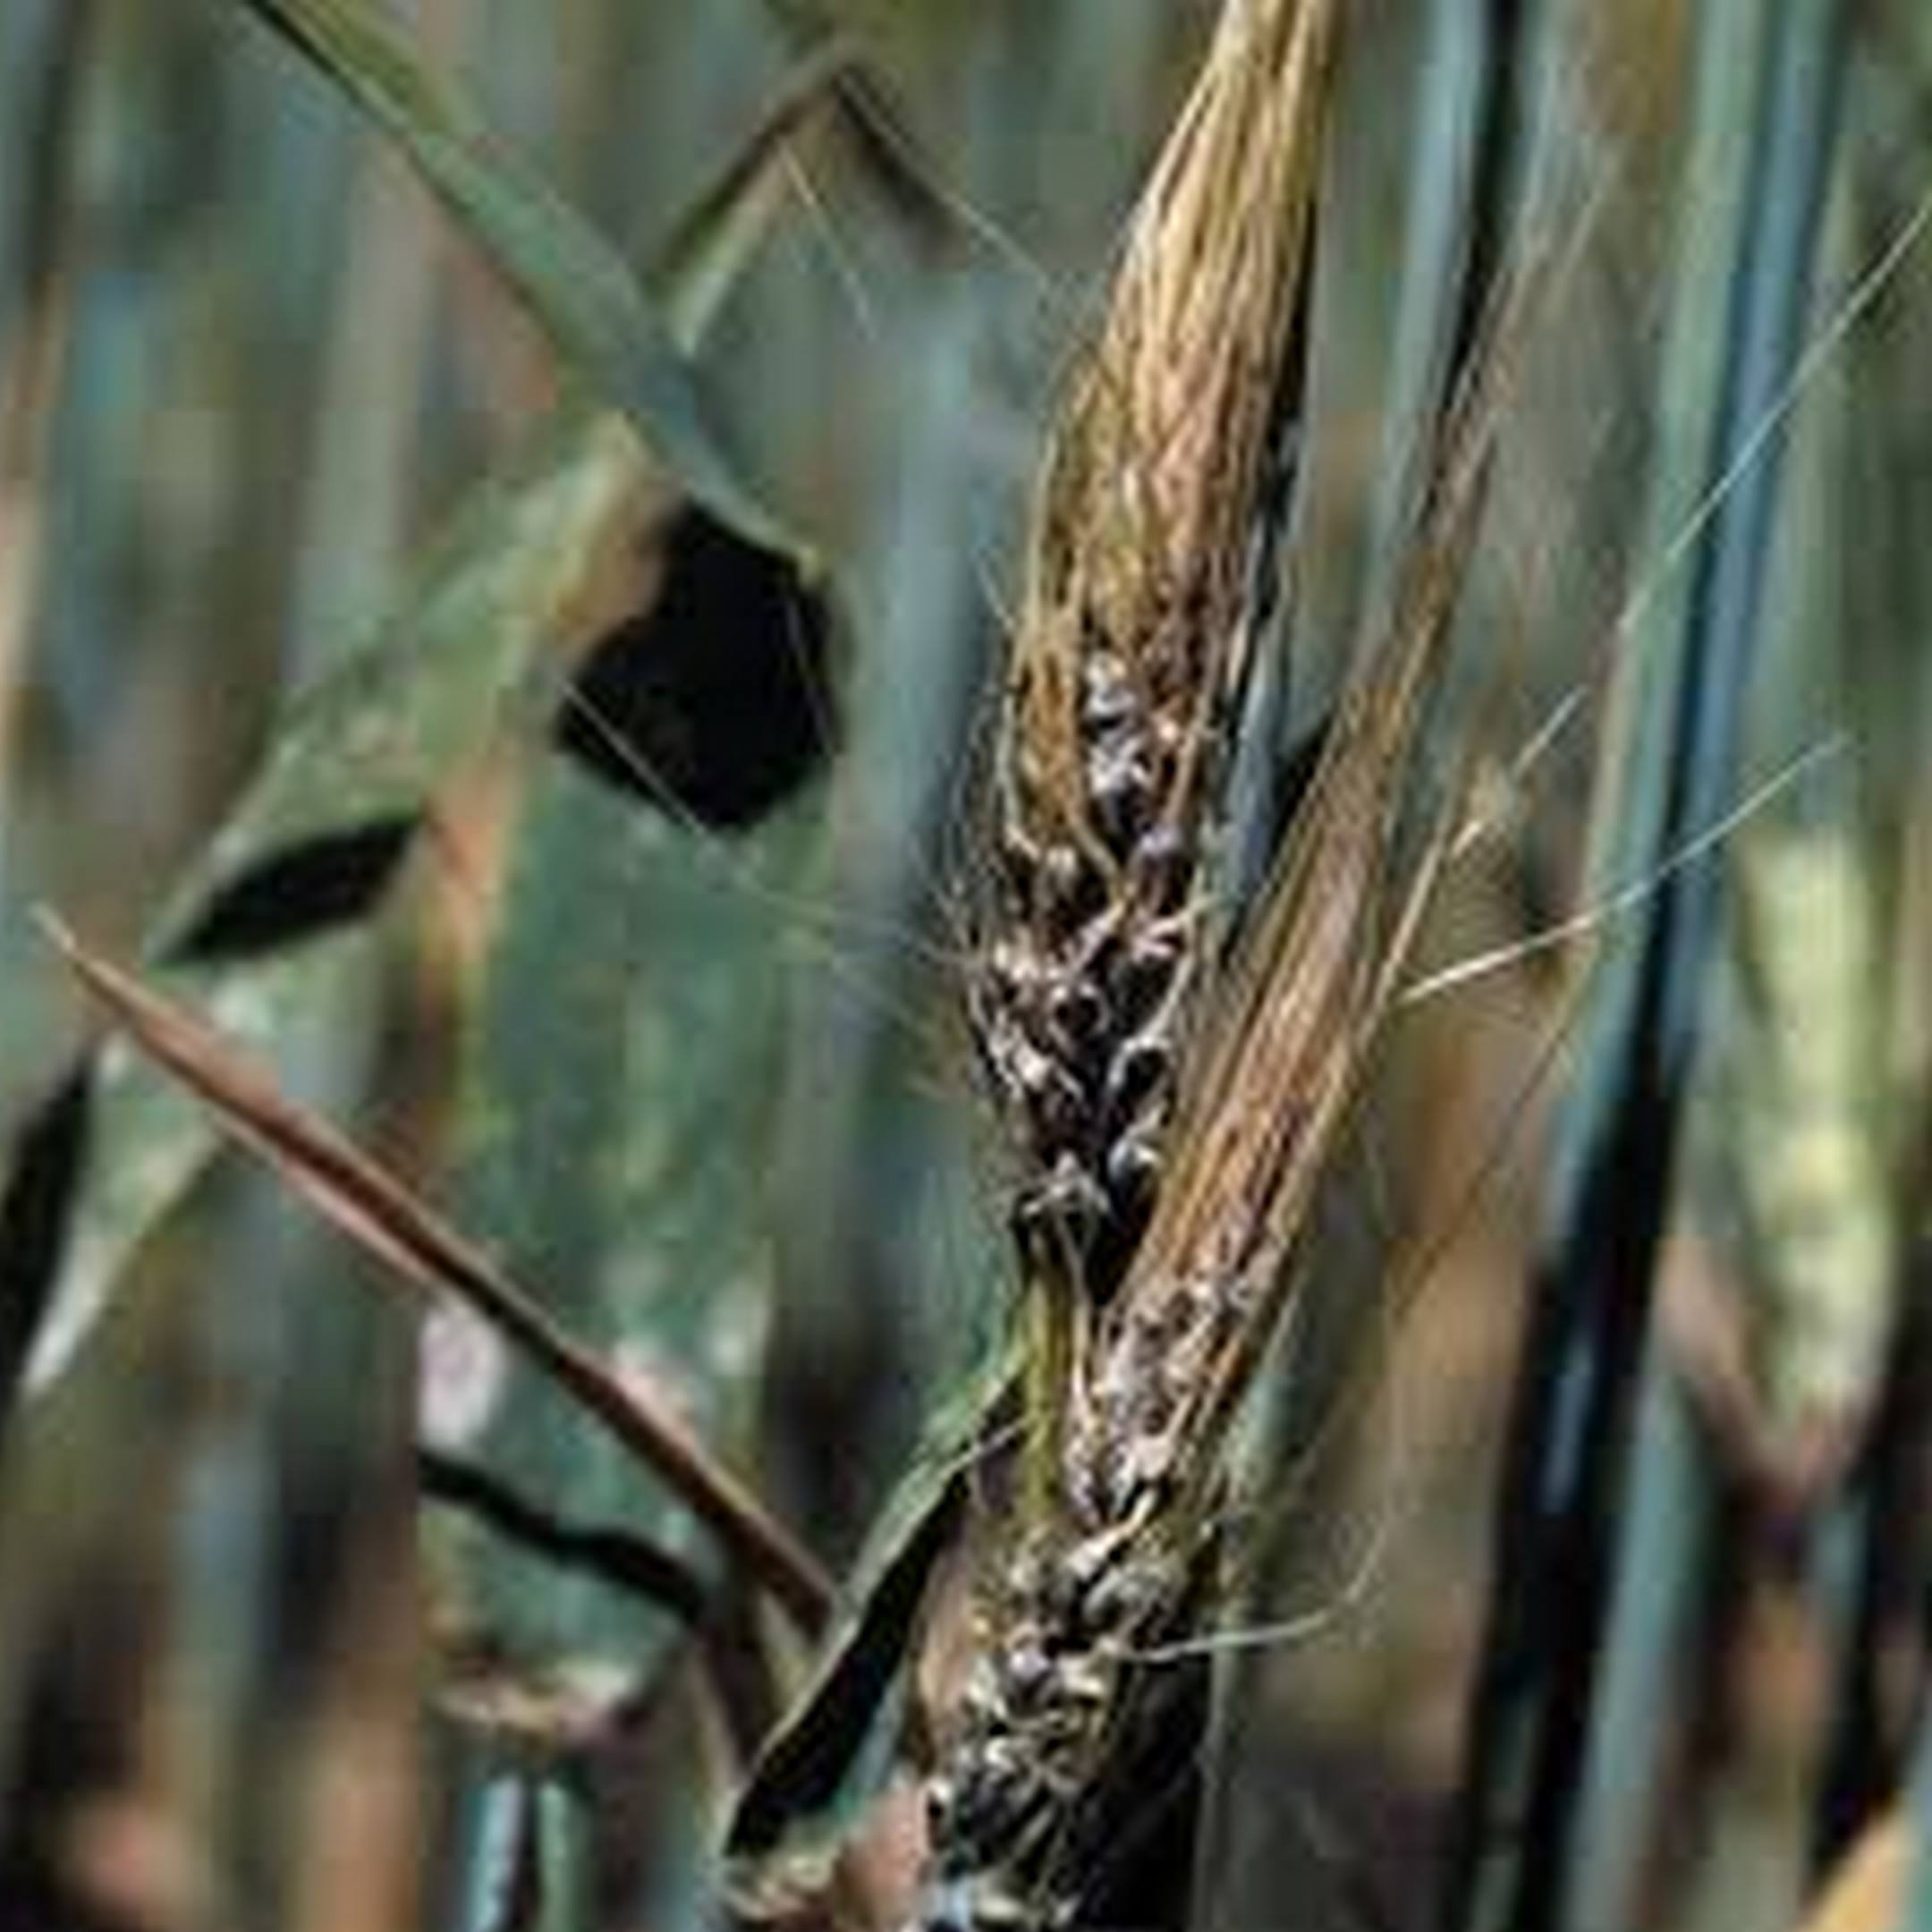Wheat Loose Smut: (916, 648, 1293, 1306), (883, 1327, 1300, 1858)
